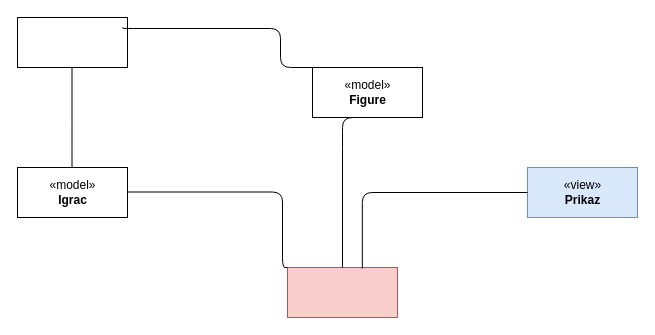
Some shapes in this 655 by 335 pixel diagram are drawn without their labels. The box of each missing label's shape, as (x1, y1, x2, y2) in pixels:
«controller» Igra: (286, 266, 398, 318)
«model» Kocka: (16, 16, 128, 68)
